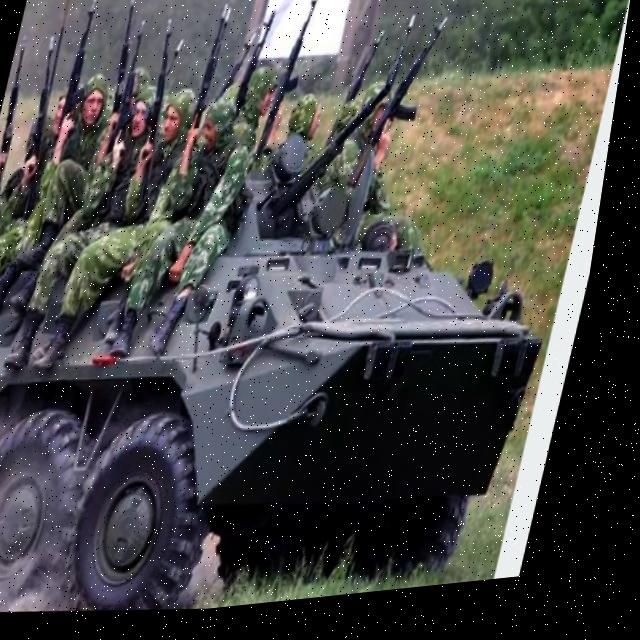MIL_APC: (0, 118, 601, 640)
